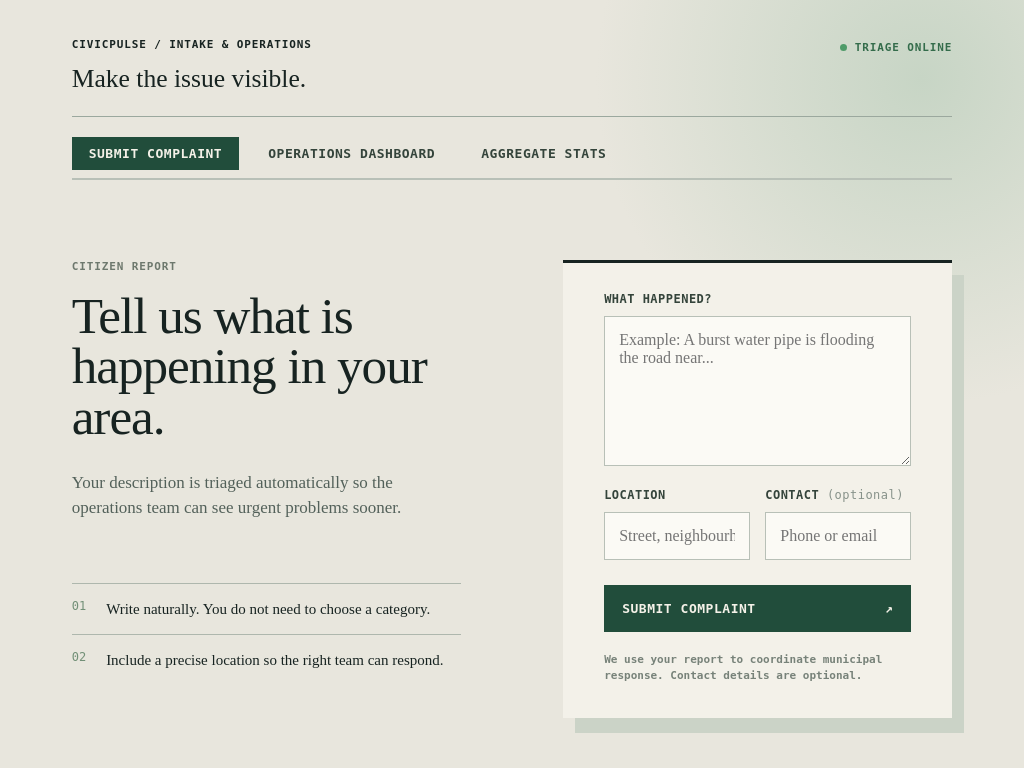
Scenario: Submit view › renders the triage result and provider
The width and height of the screenshot is (1024, 768).
Type "Burst water pipe flooding the road" into the text box labelled "What happened?" at (758, 391), box left=604, top=316, right=911, bottom=466
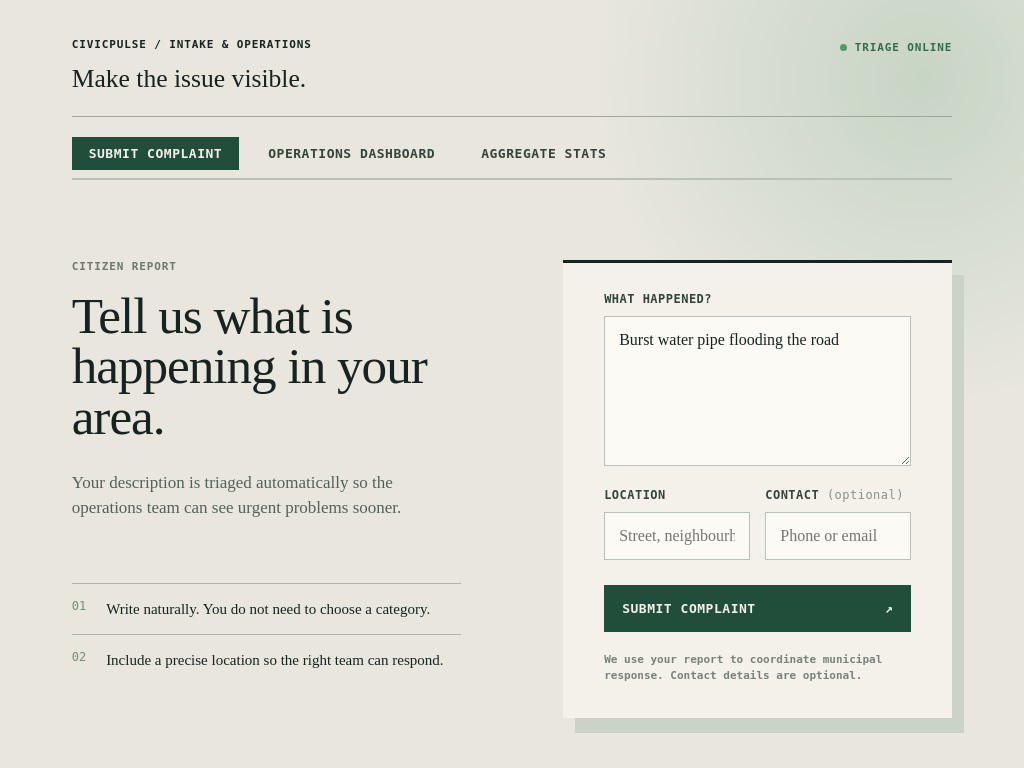
Type "Street 1" into the field labelled "Location" at (677, 536), box left=604, top=512, right=750, bottom=560
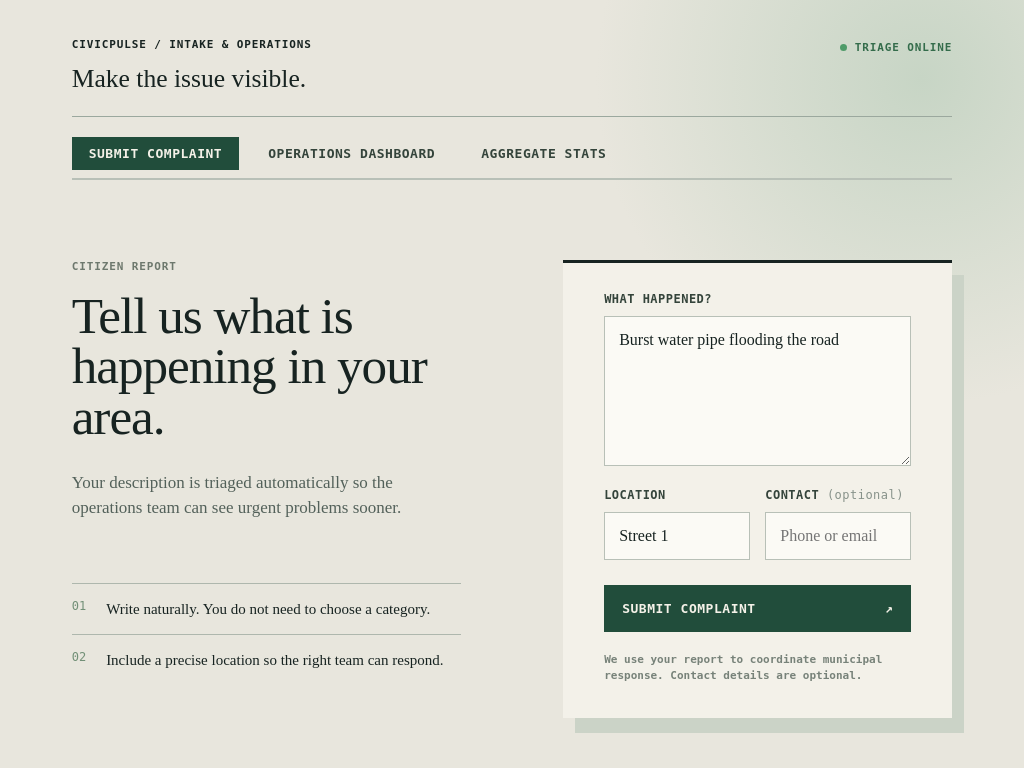
Submit the form, box left=563, top=260, right=952, bottom=718
(page scrolled)
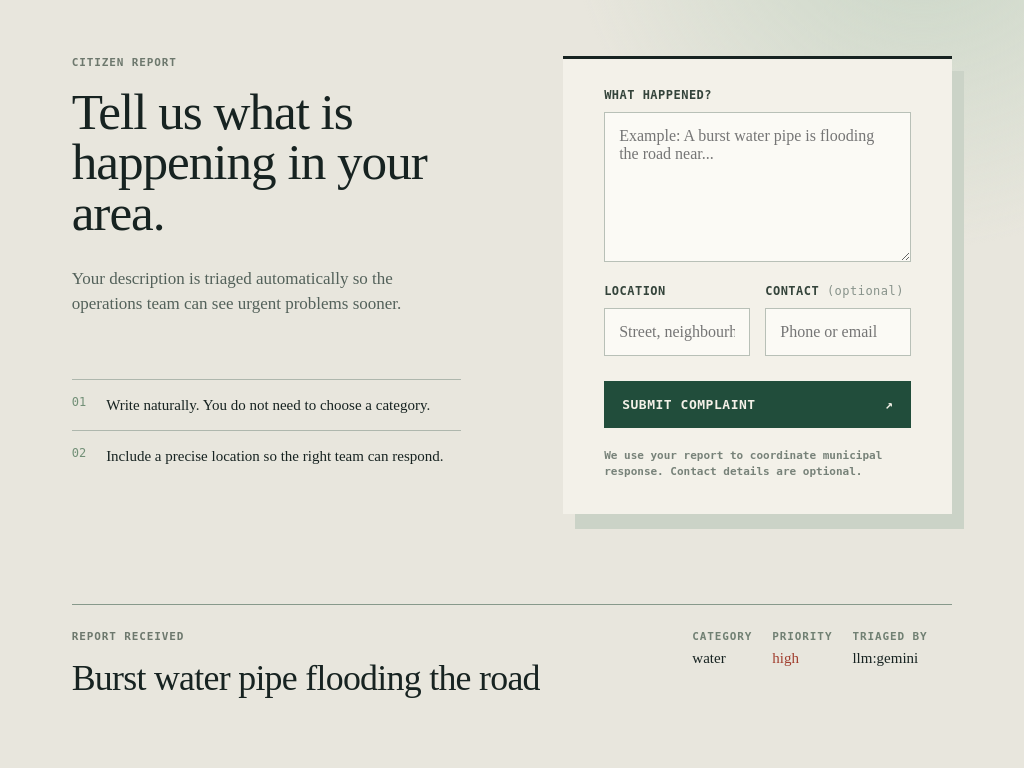
Expected: the text "llm:gemini" is shown, left=852, top=650, right=918, bottom=666
Expected: the text "water" is shown, left=692, top=650, right=726, bottom=666
Expected: the text "high" is shown, left=772, top=650, right=799, bottom=666
